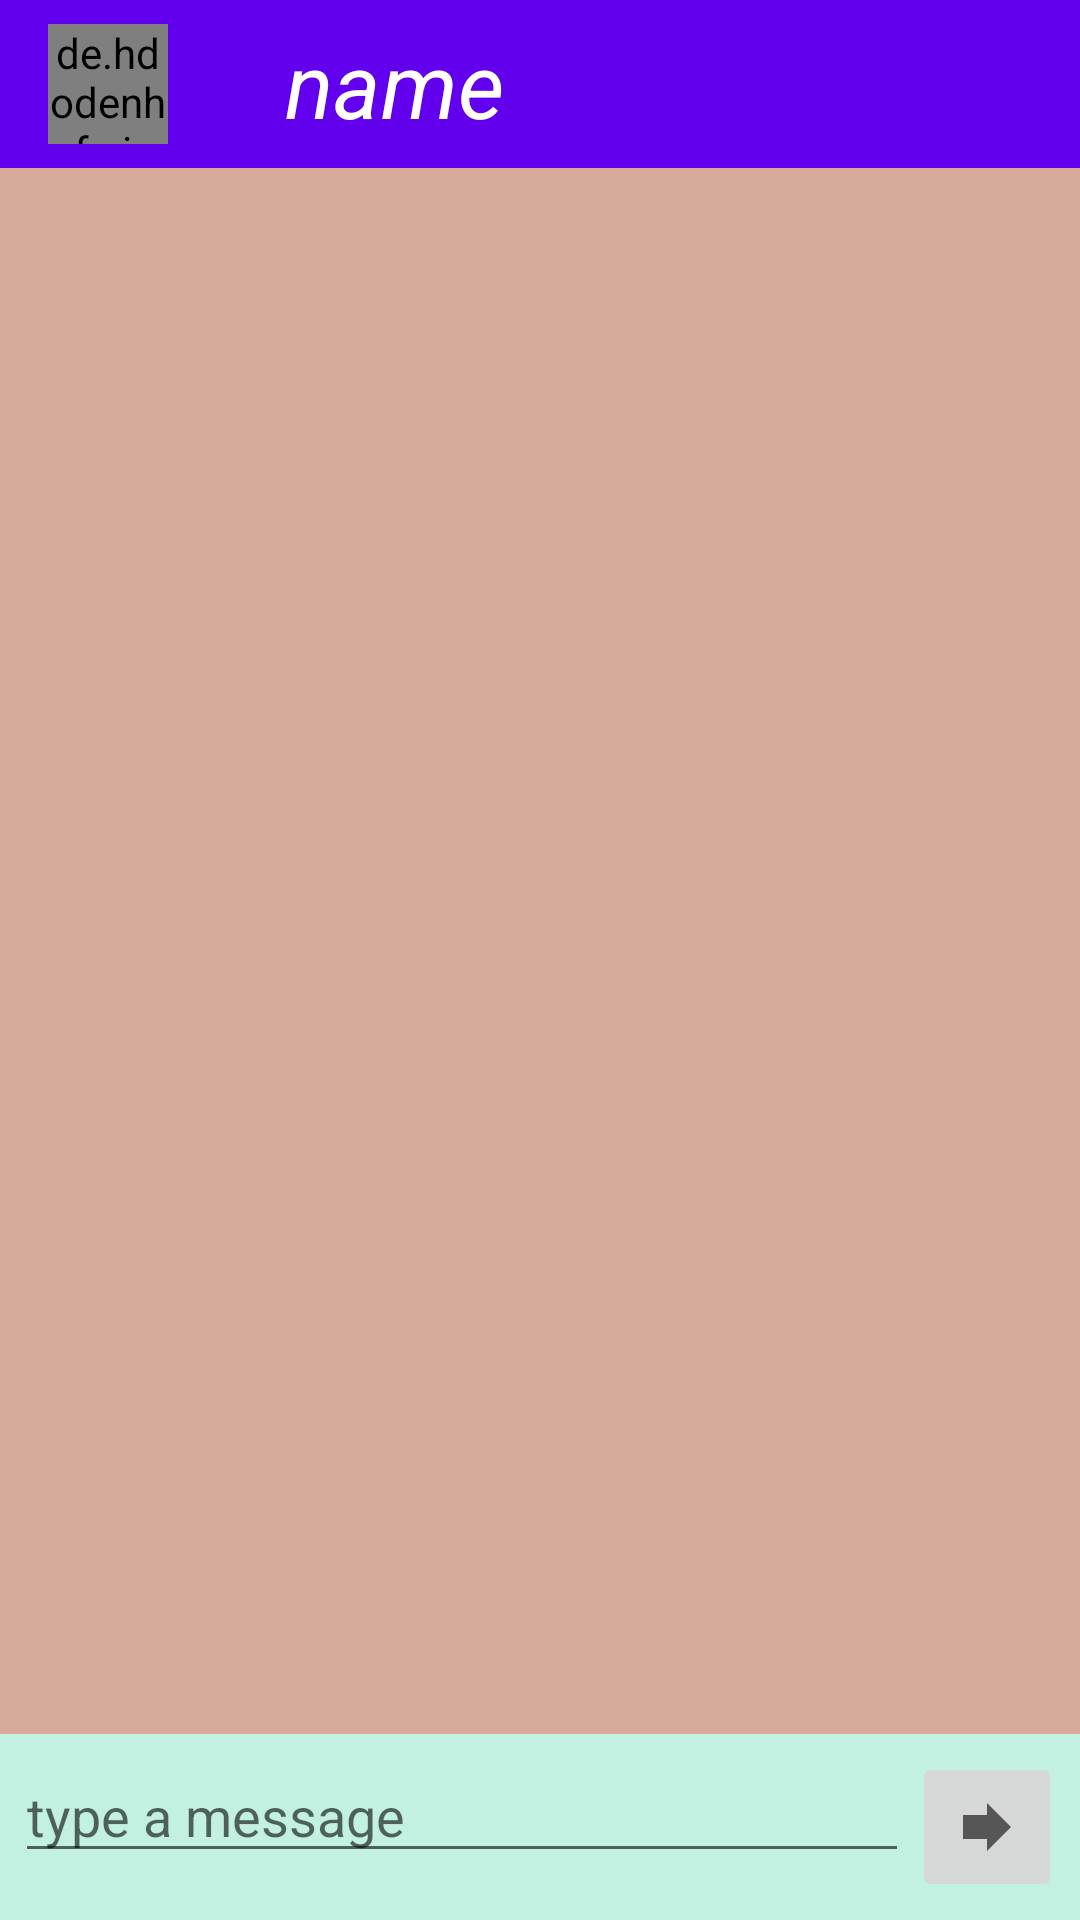

Screen size 1080 × 1920. Icon name, then its center in pixels as [x,y]:
forwardmessage: [987,1827]
